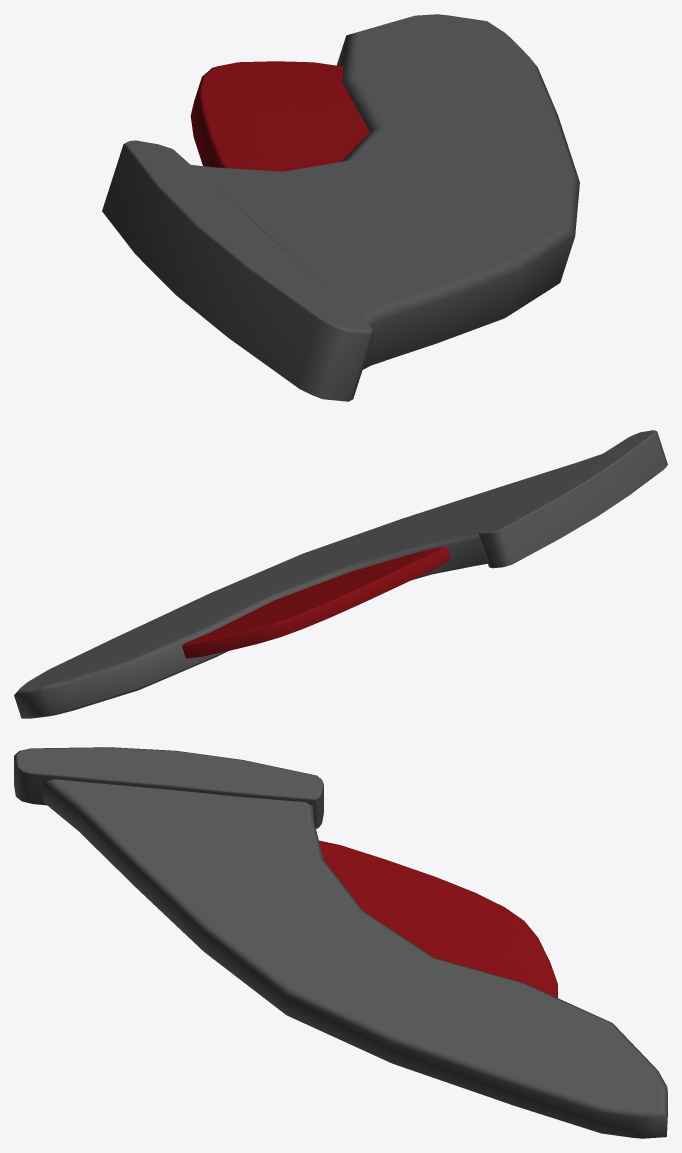
The model's file is Ship_enemy_02_Wing_L.fbx.
The picture shows the model from 3 angles, top to bottom: view 1: azimuth 30°, elevation 25°; view 2: azimuth 150°, elevation 25°; view 3: azimuth 270°, elevation 25°; orthographic projection. The views are drawn at different scales.
Parts seen in each view (by area): view 1: Ship_enemy_02_Wing_L; view 2: Ship_enemy_02_Wing_L; view 3: Ship_enemy_02_Wing_L.
Boxes of the visible parts, x1,y1,x2,y2 form: Ship_enemy_02_Wing_L: [102, 14, 579, 401]; Ship_enemy_02_Wing_L: [14, 430, 667, 718]; Ship_enemy_02_Wing_L: [14, 747, 667, 1138].
Size of the model in its own units: 230 by 98.8 by 303.
